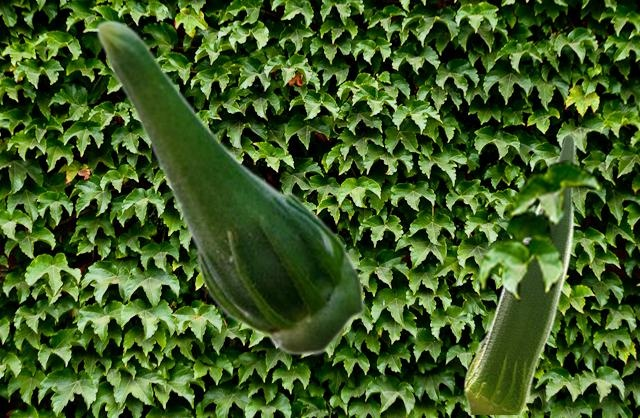okra: (95, 19, 365, 355), (463, 131, 575, 413)
